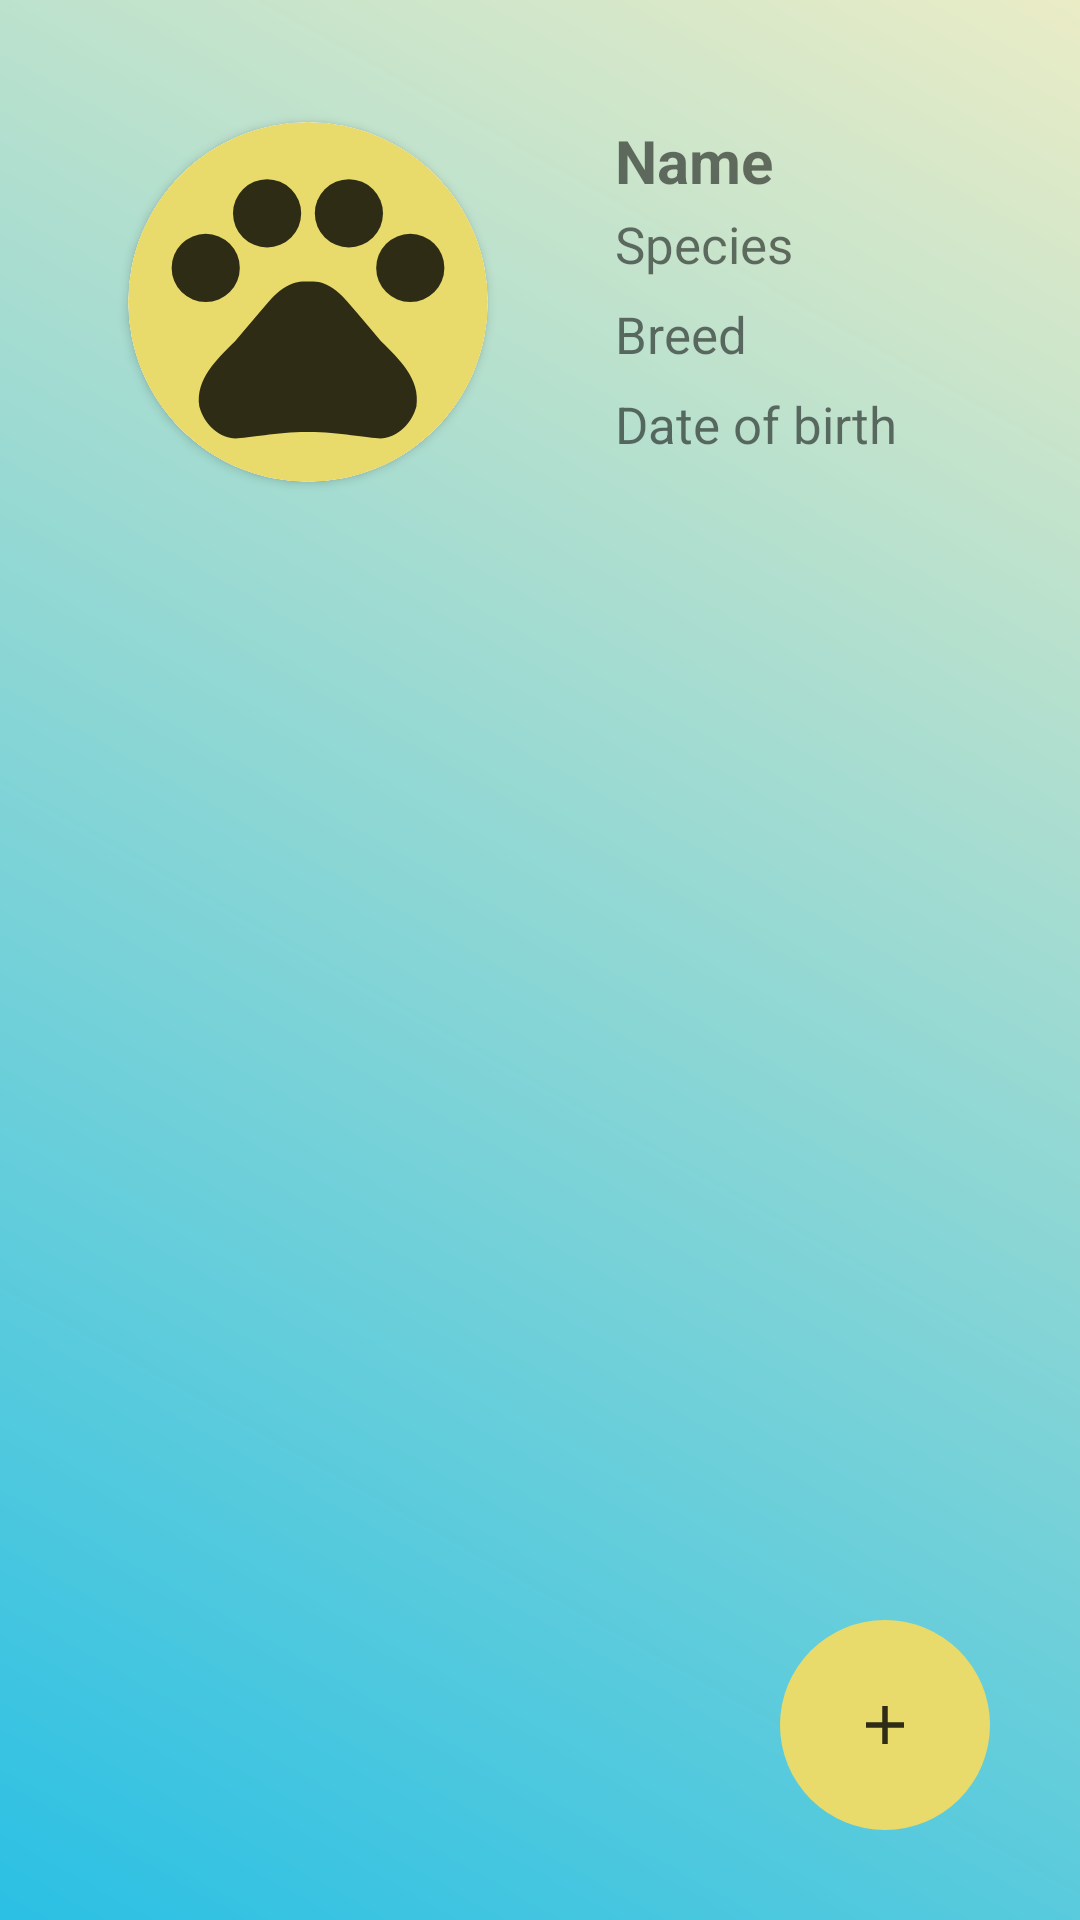

Named icons in this screenshot (1080×1920) and their centers, [x,y]:
add: [885,1725]
pets: [308,302]
